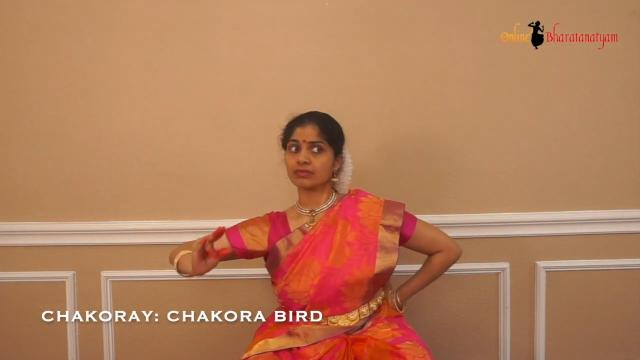kangul: (152, 229, 244, 286)
